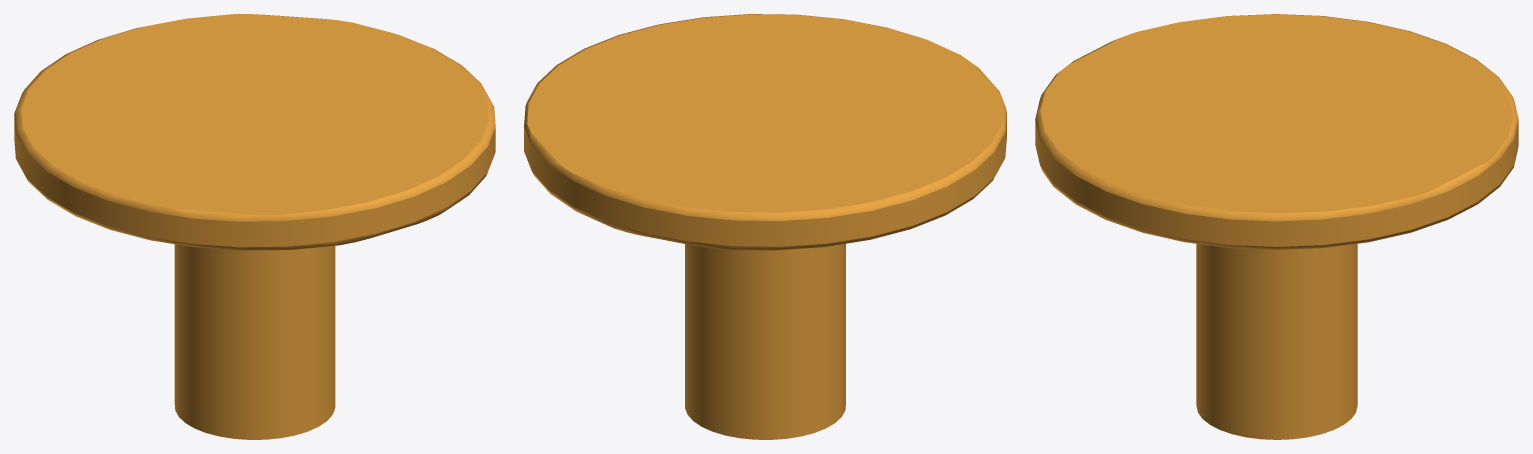
Rendered from MarbleTableBlockout_RB.fbx.
The picture shows the model from 3 angles, left to right: view 1: azimuth 30°, elevation 25°; view 2: azimuth 150°, elevation 25°; view 3: azimuth 270°, elevation 25°; orthographic projection.
Parts seen in each view (by area): view 1: bottom_slab; view 2: bottom_slab; view 3: bottom_slab.
Part boxes in pixels (bbox=[...]): bottom_slab: bbox=[14, 14, 495, 439]; bottom_slab: bbox=[524, 14, 1006, 439]; bottom_slab: bbox=[1035, 14, 1518, 439].
Bounding box in the file's own units: 2.4 × 1.6 × 2.4.
